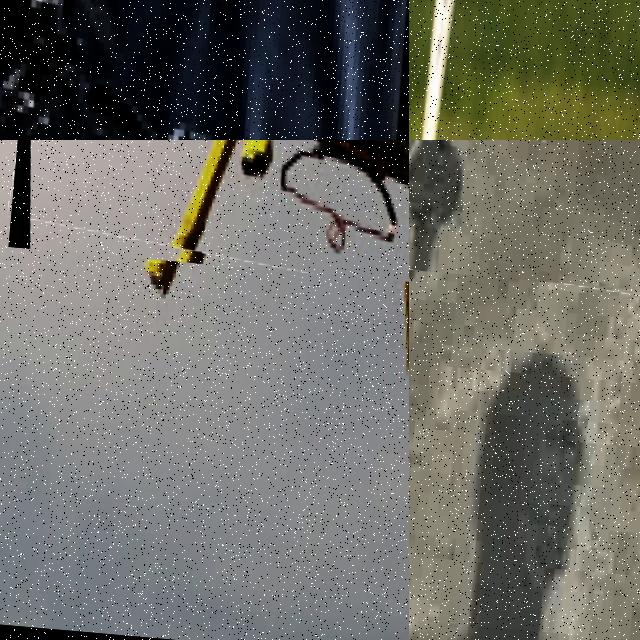drone: (8, 140, 409, 298), (0, 0, 409, 140), (409, 140, 640, 297)
